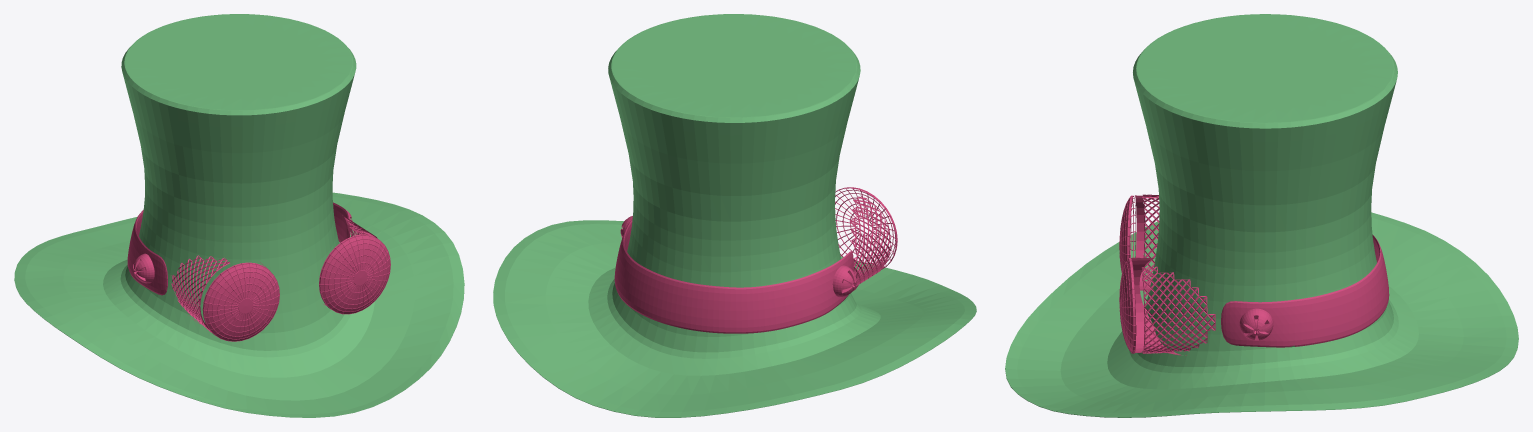
The model's file is full_10_coarse.glb.
3 views of the same model, side by side, from view 1: azimuth 30°, elevation 25°; view 2: azimuth 150°, elevation 25°; view 3: azimuth 270°, elevation 25° (orthographic). The views are drawn at different scales.
Visible parts, largest first — view 1: world; view 2: world; view 3: world.
Boxes of the visible parts, x1,y1,x2,y2 form: world: (14,14,464,417); world: (493,14,976,417); world: (1005,14,1518,417).
Size of the model in its own units: 0.6387 by 0.4211 by 0.644.
